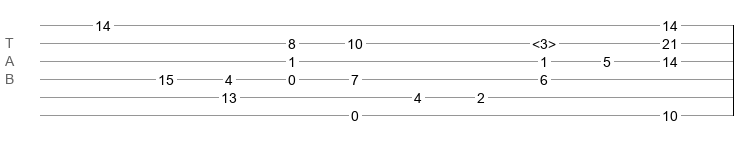0: (288, 72, 296, 82), (351, 108, 359, 118)
1: (288, 54, 296, 64), (540, 54, 548, 64)
10: (347, 36, 363, 46), (662, 108, 678, 118)
13: (221, 90, 237, 100)
14: (95, 18, 111, 28), (662, 18, 678, 28), (662, 54, 678, 64)
15: (158, 72, 174, 82)
2: (477, 90, 485, 100)
21: (662, 36, 678, 46)
4: (225, 72, 233, 82), (414, 90, 422, 100)
5: (603, 54, 611, 64)
6: (540, 72, 548, 82)
7: (351, 72, 359, 82)
8: (288, 36, 296, 46)
harmonic: (532, 36, 556, 46)
